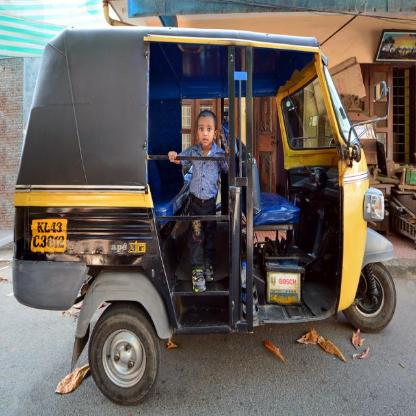auto-rikshaw: (24, 12, 404, 402)
